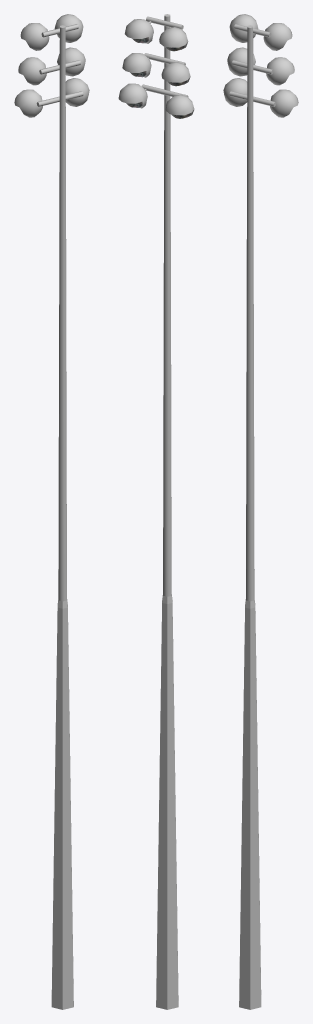
File: Light_02.fbx
3 renders of one model, left to right at view 1: azimuth 30°, elevation 25°; view 2: azimuth 150°, elevation 25°; view 3: azimuth 330°, elevation 25°, orthographic.
Visible parts, largest first — view 1: Light_02; view 2: Light_02; view 3: Light_02.
Boxes of the visible parts, x1,y1,x2,y2 form: Light_02: [14, 14, 89, 1009]; Light_02: [118, 14, 194, 1009]; Light_02: [223, 14, 298, 1009].
Size of the model in its own units: 225 by 2954 by 129.
